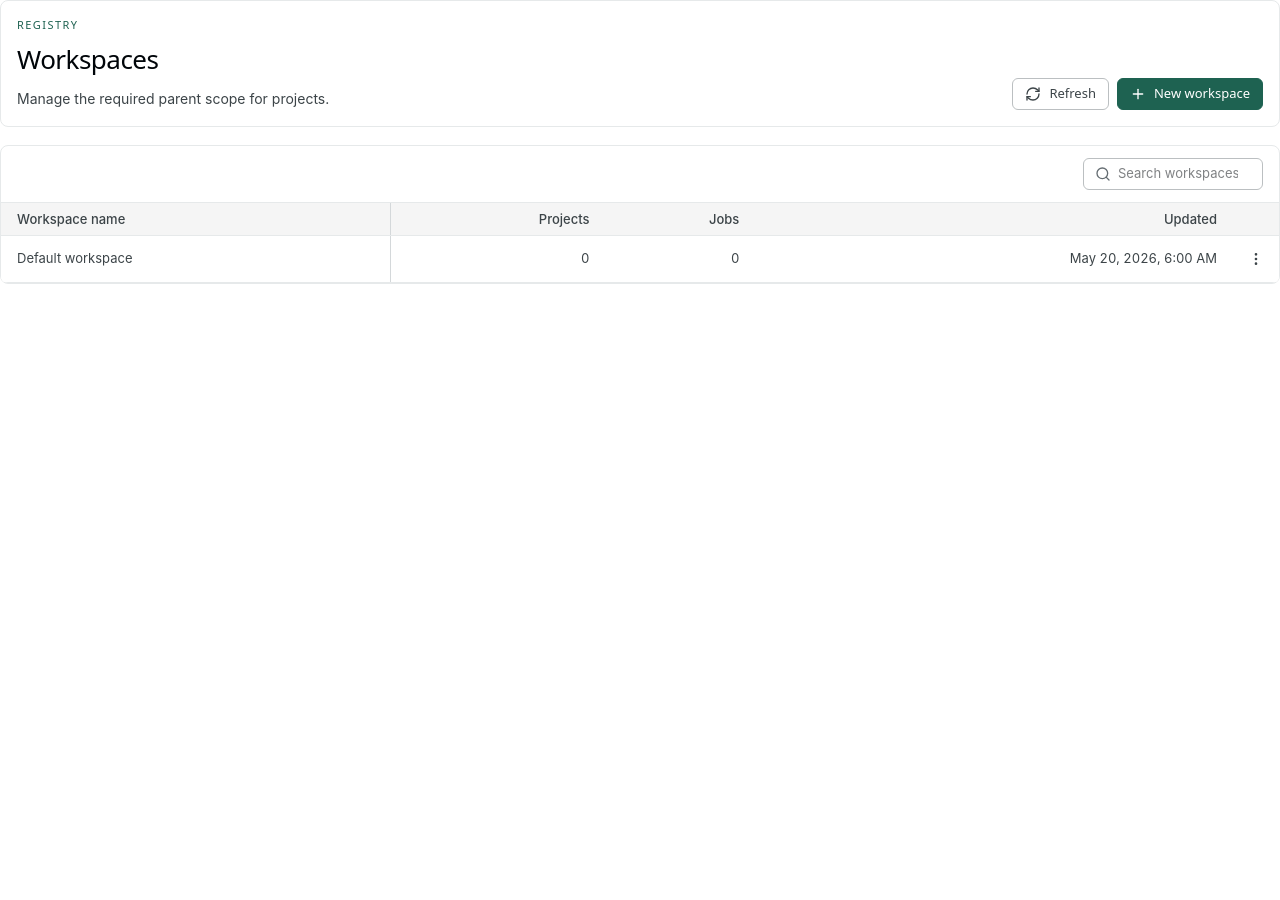
Test: RegistryWorkspacesPage › announces plan warnings and the blocking validation from the alert's own tone
Click the button named "Actions for Default workspace".
click(1256, 259)  # box [1240,243,1272,275]
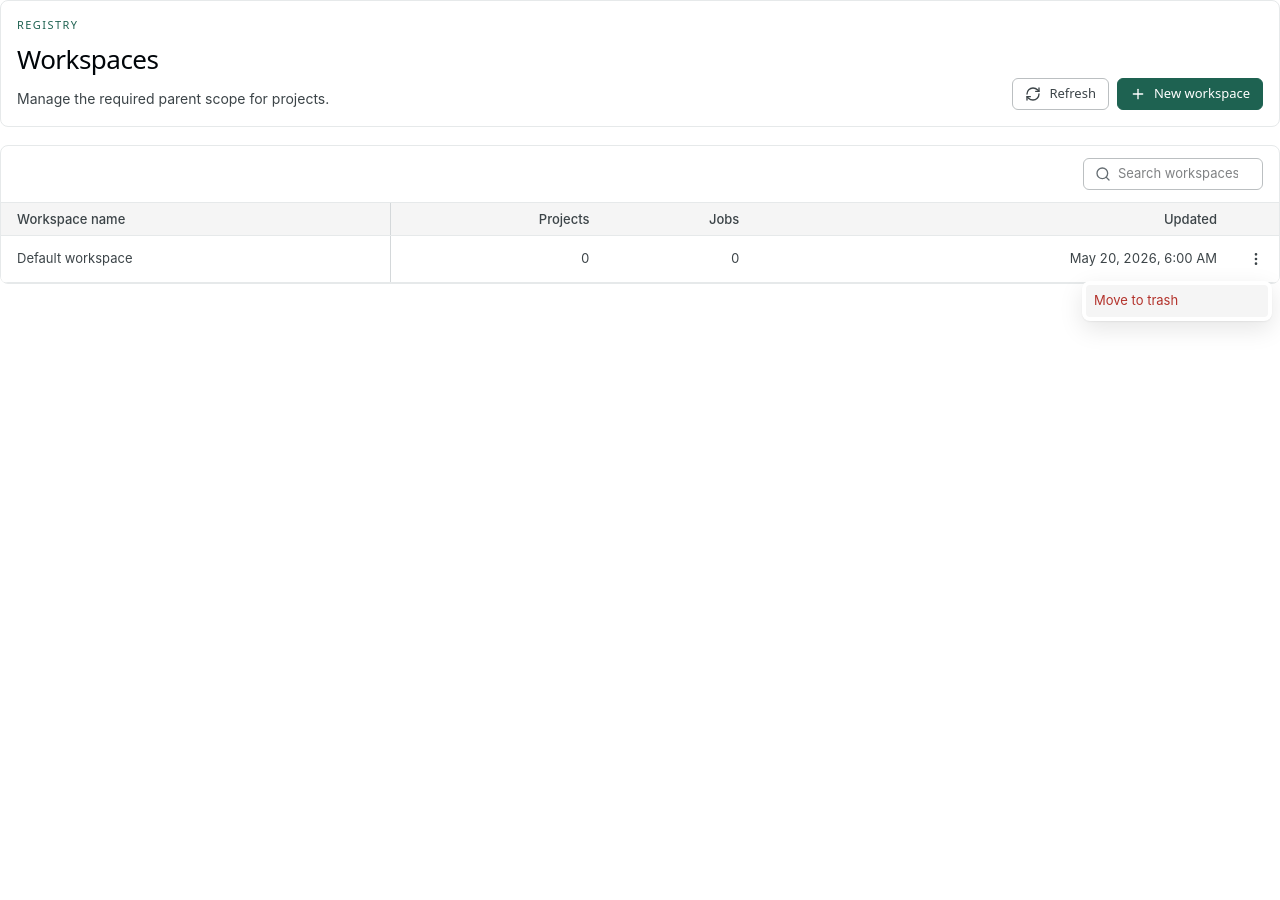
Click the menu item "Move to trash".
click(1177, 301)  # box [1086,285,1268,317]
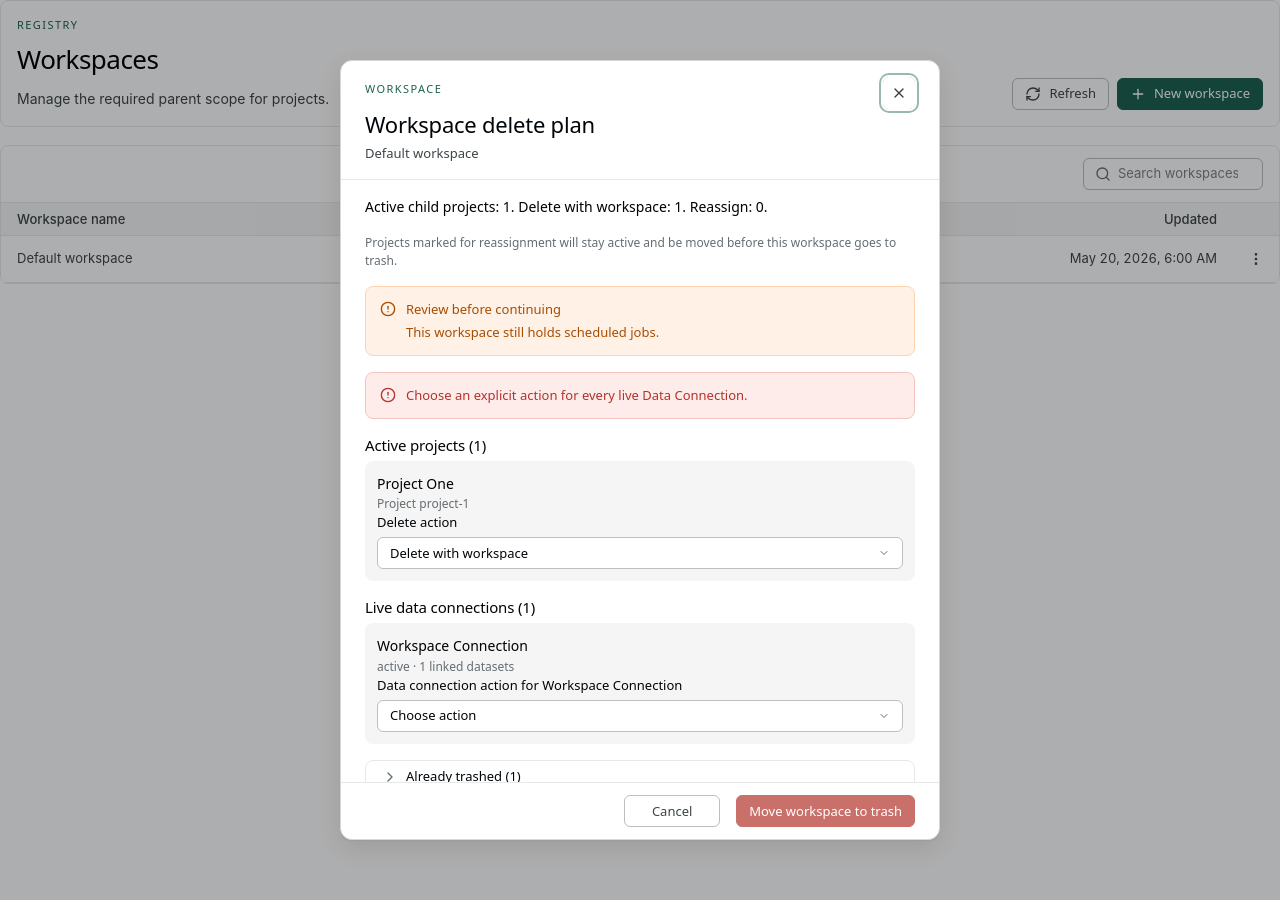
Expected: the heading "Workspace delete plan" is shown, [365,109,595,139]
Expected: the message reads "Choose an explicit action for every live Data Connection.", [406,386,748,404]
Expected: the button "Move workspace to trash" is disabled, [736,795,915,827]
